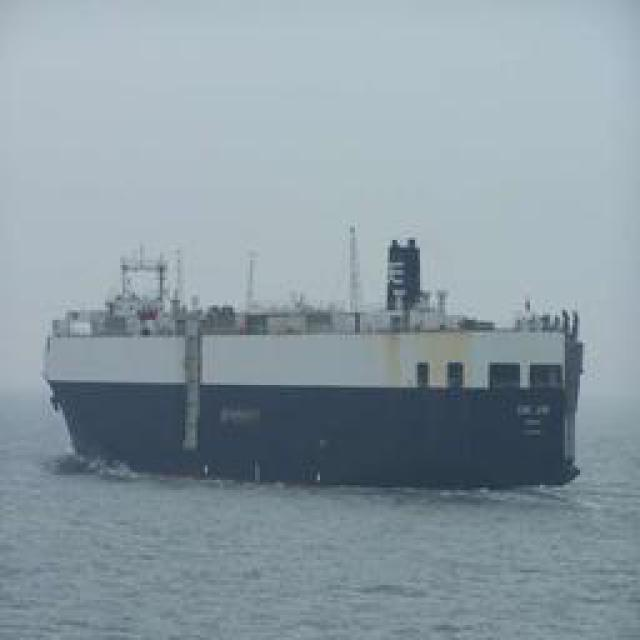Ship: (41, 249, 601, 489)
